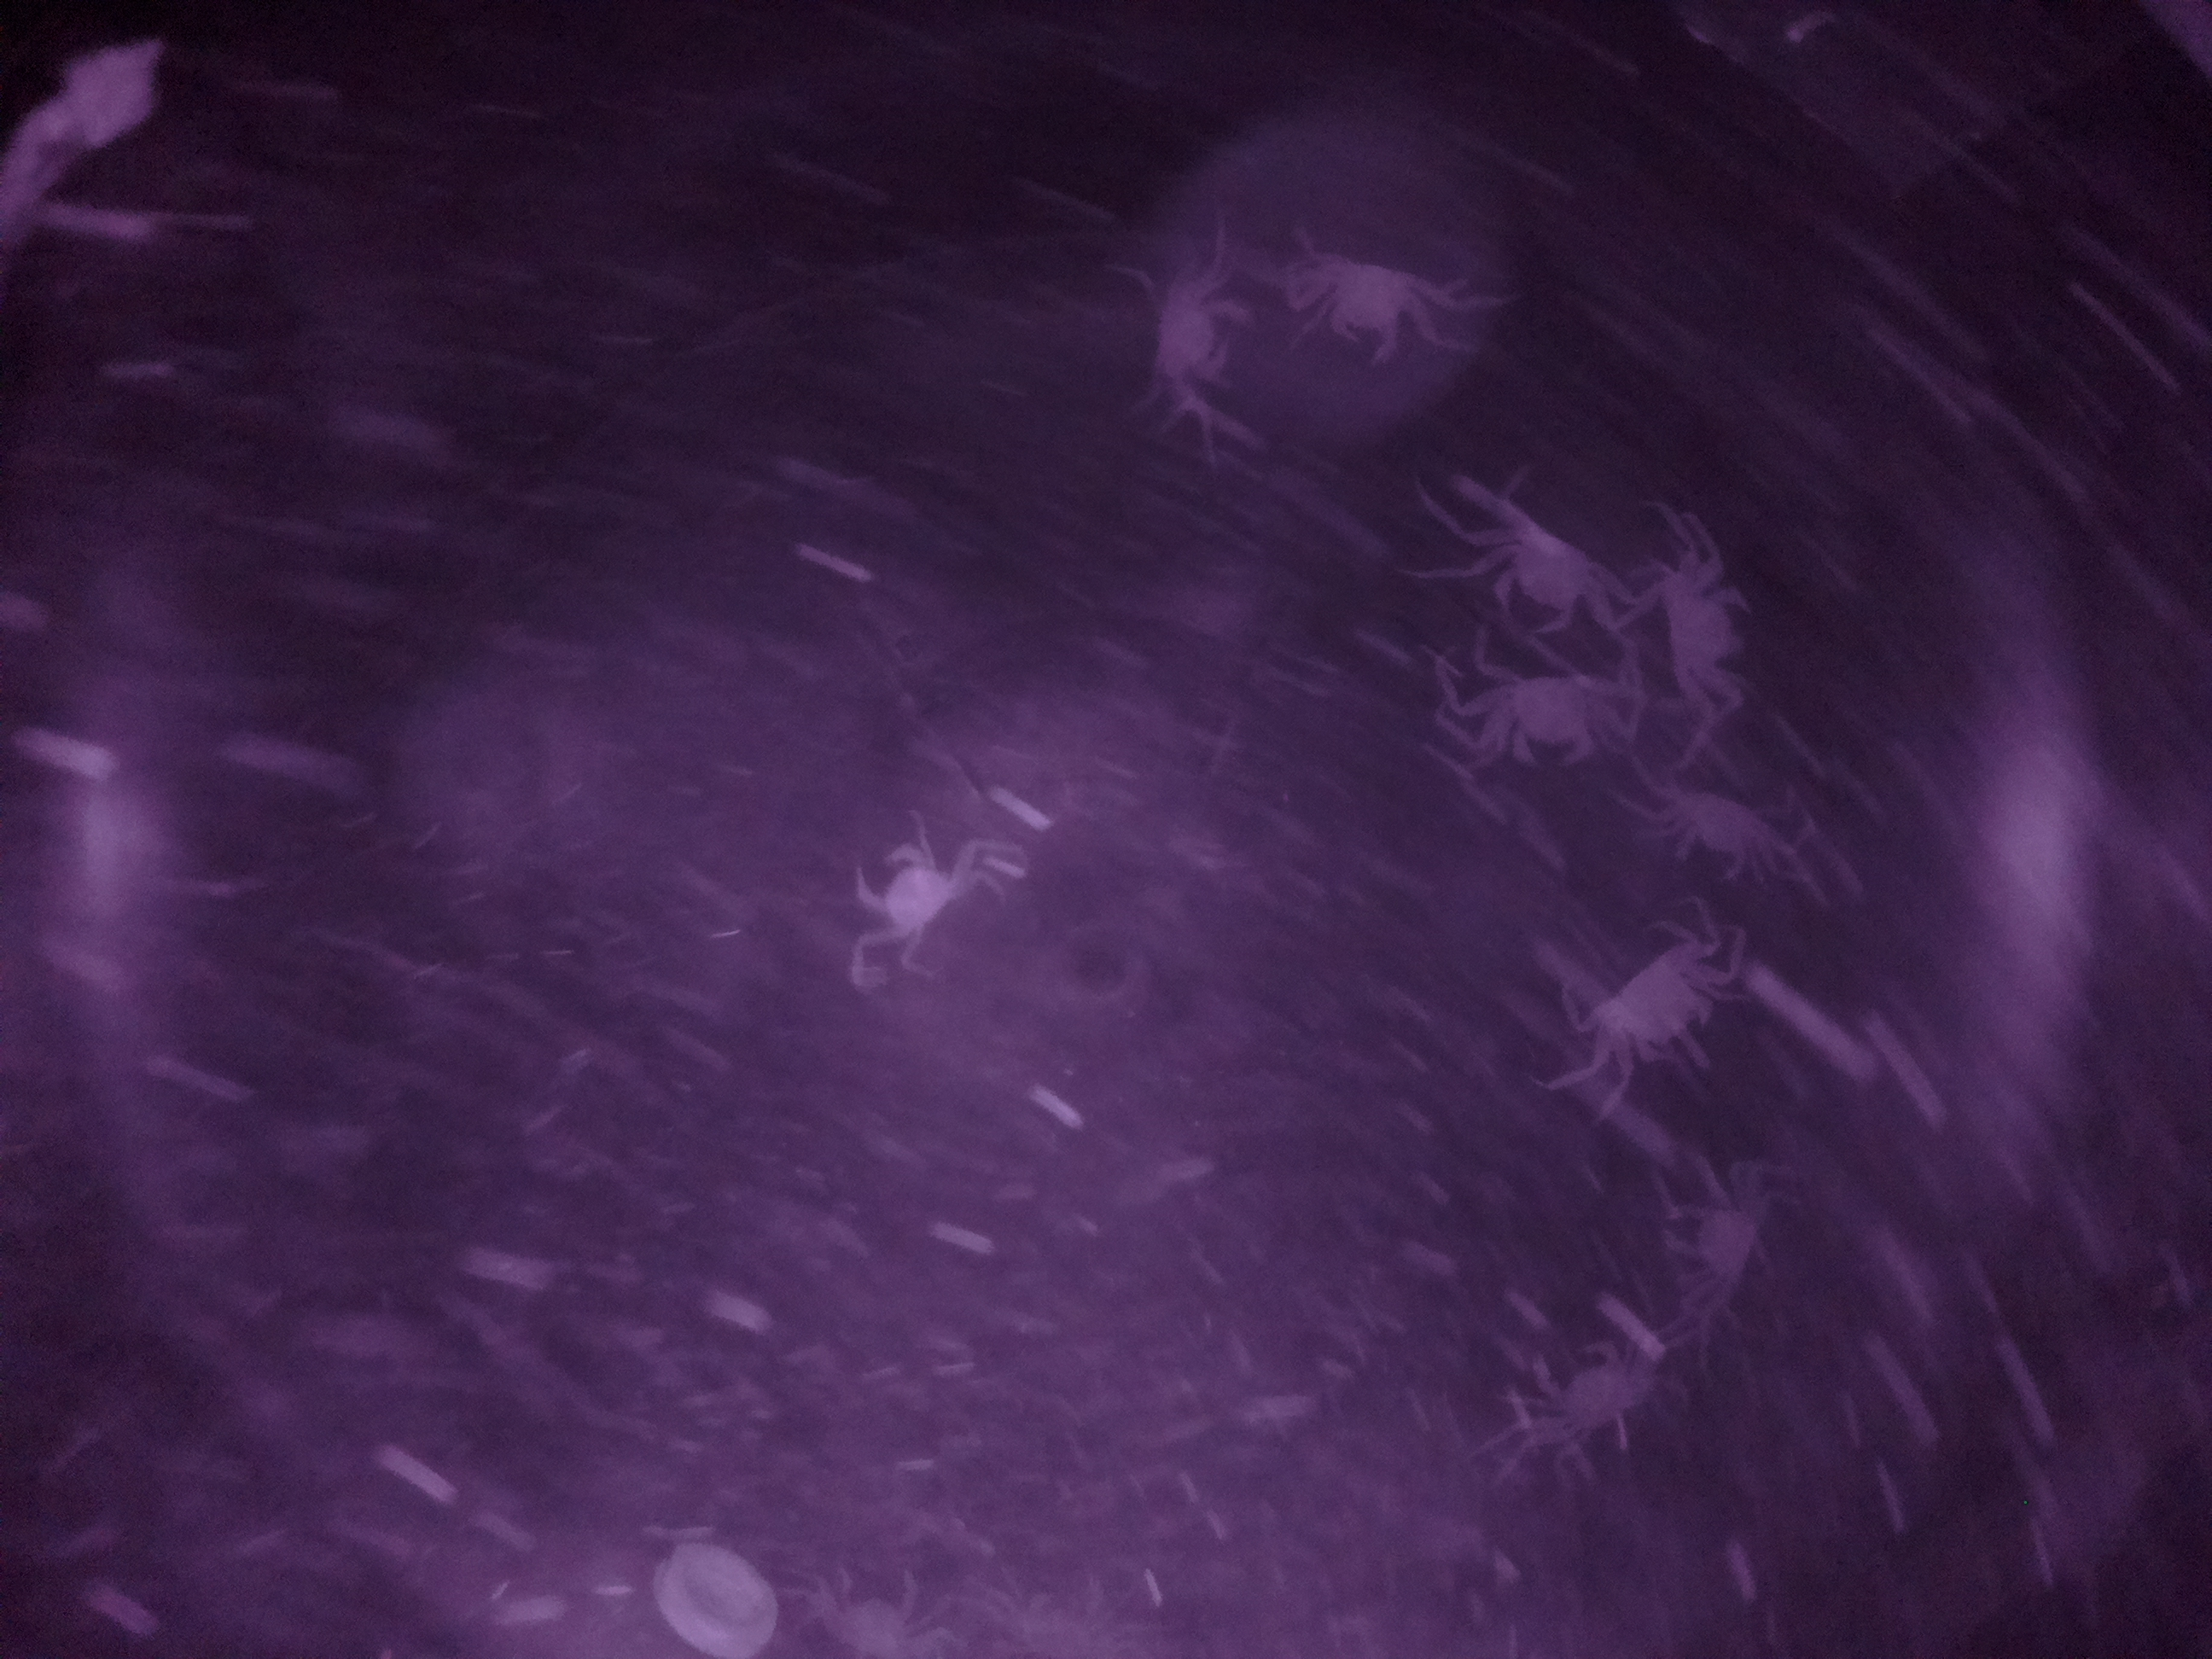Crab: (1562, 918, 1740, 1084), (1641, 533, 1778, 718), (840, 807, 986, 965), (1453, 662, 1644, 777), (1453, 514, 1620, 641)
